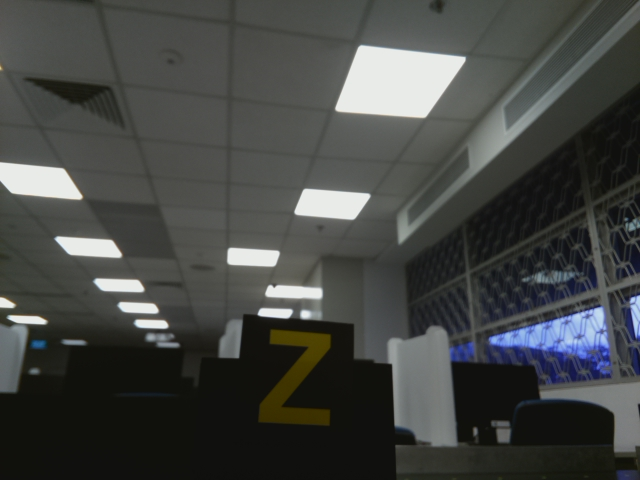z: (257, 326, 336, 432)
